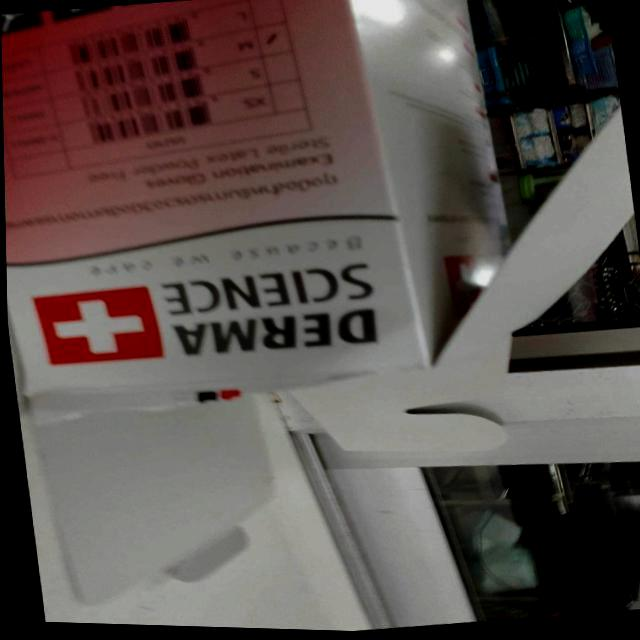General: (5, 1, 638, 632)
